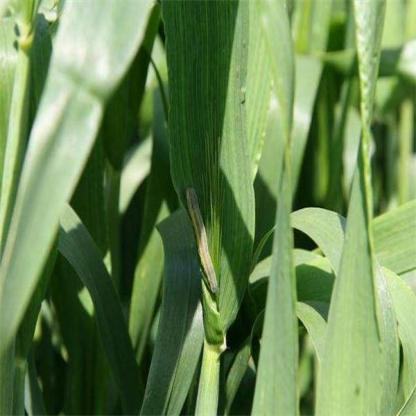sawfly: (177, 178, 221, 300)
